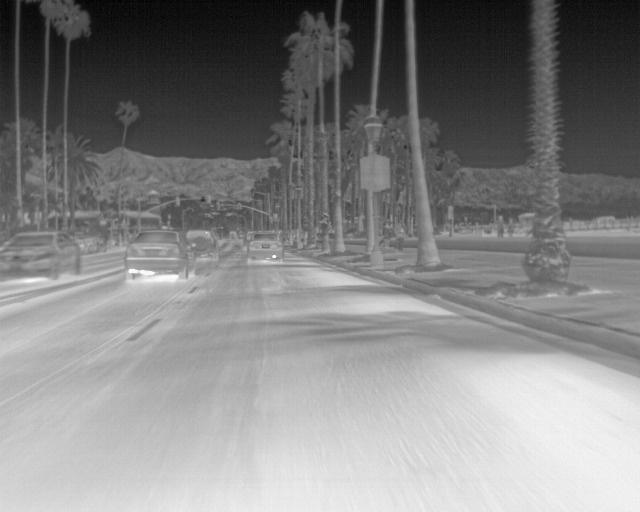bicycle: (0, 228, 82, 279), (124, 228, 196, 281), (246, 230, 282, 263), (180, 229, 217, 258)
